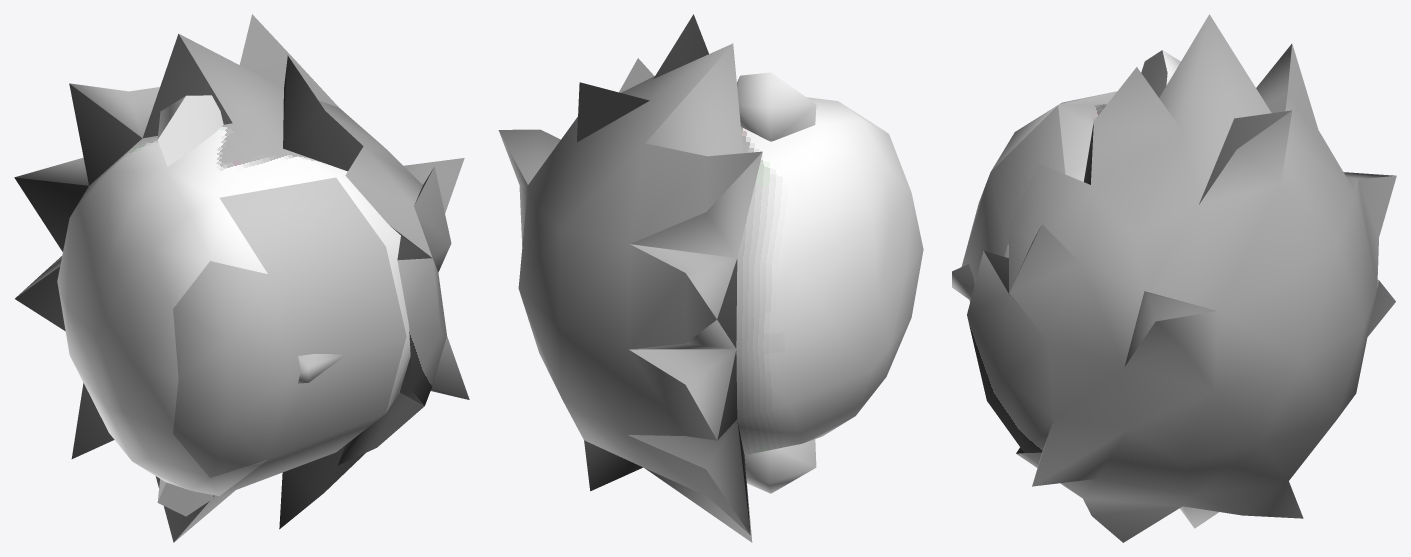
The model's file is boy12a.dae.
The picture shows the model from 3 angles, left to right: view 1: azimuth 30°, elevation 25°; view 2: azimuth 150°, elevation 25°; view 3: azimuth 270°, elevation 25°; orthographic projection. The views are drawn at different scales.
Parts seen in each view (by area): view 1: vsn_mesh_0_, vsn_mesh_1_, vsn_mesh_2_; view 2: vsn_mesh_0_; view 3: vsn_mesh_0_, vsn_mesh_1_.
Part boxes in pixels (box(x1,y1,x2,y2)): vsn_mesh_0_: box(14, 14, 469, 542); vsn_mesh_1_: box(219, 177, 406, 495); vsn_mesh_2_: box(173, 261, 290, 477); vsn_mesh_0_: box(498, 14, 923, 542); vsn_mesh_0_: box(967, 14, 1396, 542); vsn_mesh_1_: box(952, 105, 1065, 301).
Bounding box in the file's own units: 24.86 × 31.81 × 24.62.
